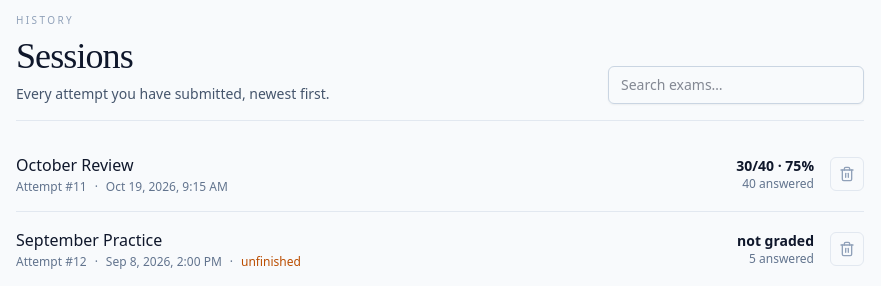
Scenario: SessionsPage › deletes an attempt after confirmation
expect the link "October Review" is shown: met, box [16,154,134,176]
Click the button named "Delete attempt 11" at (847, 174), box [830,157,864,191]
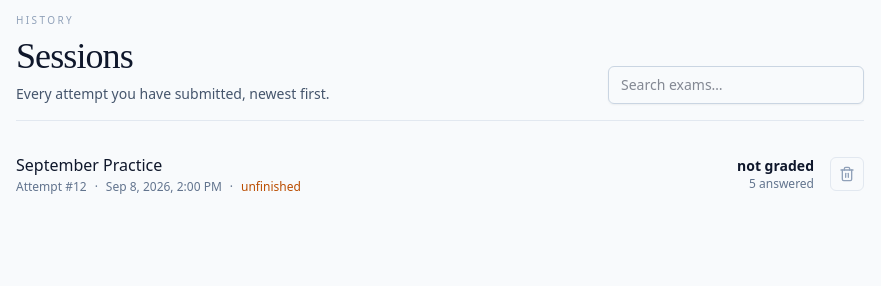
expect the link "September Practice" is shown: met, box [16,154,162,176]
expect the link "October Review" is gone: met
